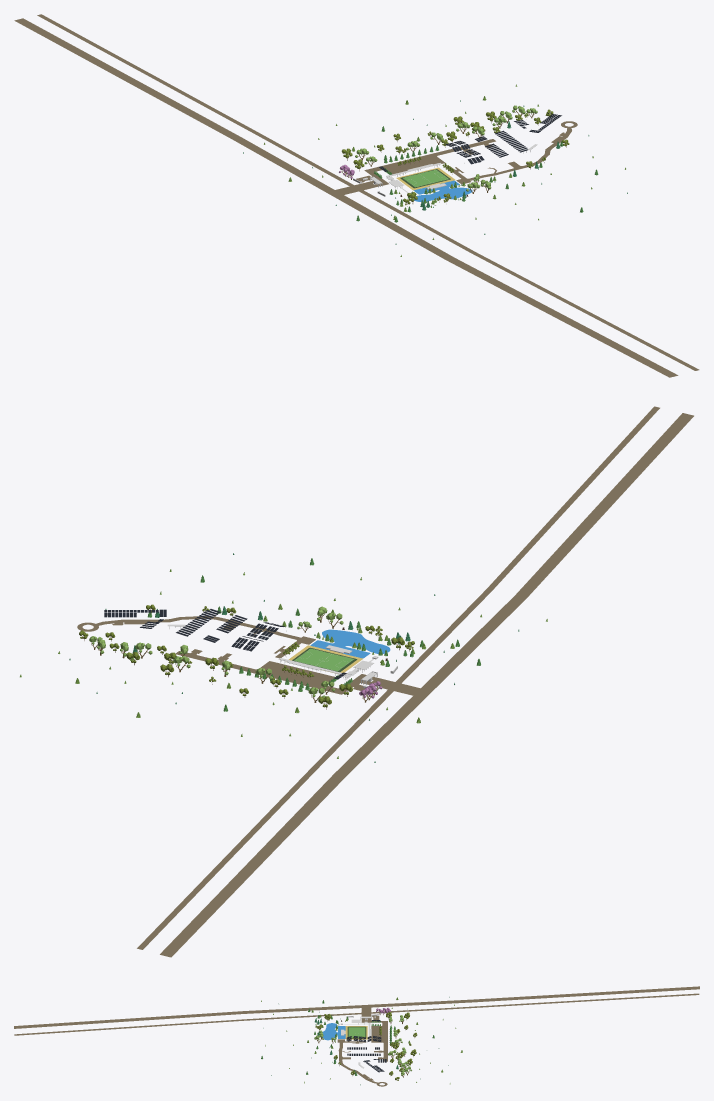
The model's file is Trees and Props.gltf.
The picture shows the model from 3 angles, top to bottom: view 1: azimuth 30°, elevation 25°; view 2: azimuth 150°, elevation 25°; view 3: azimuth 270°, elevation 25°; orthographic projection. The views are drawn at different scales.
Visible parts, largest first — view 1: External Roads, Campus Road, Field.001; view 2: External Roads, Campus Road, Field.001; view 3: External Roads, Campus Road, Field.001, Props, Lake.001.
Boxes of the visible parts, box(x1,y1,x2,y2) form: External Roads: box(14, 14, 699, 377); Campus Road: box(356, 121, 577, 185); Field.001: box(396, 167, 455, 190); External Roads: box(137, 406, 693, 957); Campus Road: box(77, 616, 376, 694); Field.001: box(286, 645, 362, 674); External Roads: box(14, 986, 699, 1035); Campus Road: box(337, 1015, 387, 1086); Field.001: box(345, 1026, 367, 1039); Props: box(340, 1014, 378, 1039); Lake.001: box(322, 1023, 338, 1040).
Bounding box in the file's own units: 518 × 22.7 × 1500.
Materials: 31 (11 with a texture image).
